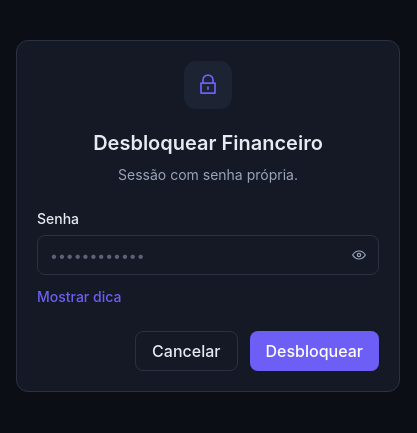
UnlockSession › mostra o alvo e revela a dica sob demanda
Step 1. Click the button "Mostrar dica" → (79, 297), box left=37, top=287, right=121, bottom=307
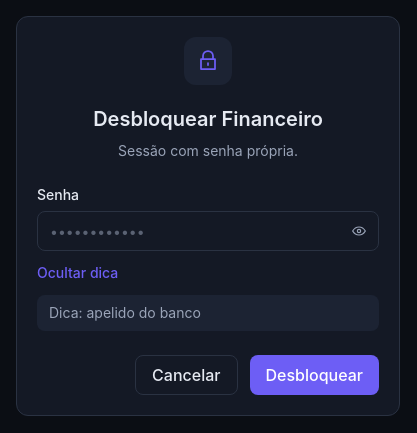
Expected: the text "Dica: apelido do banco" is shown, left=37, top=295, right=379, bottom=331
